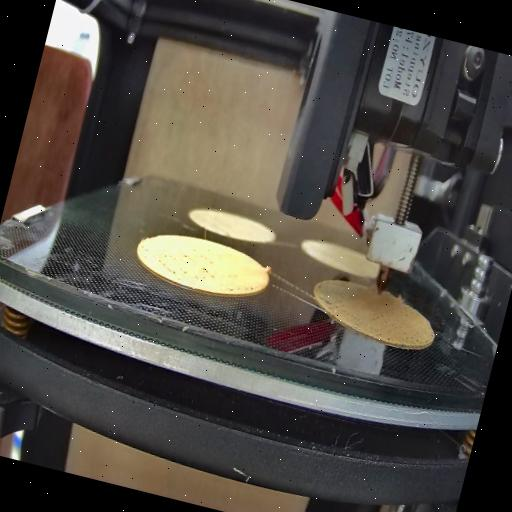under_extrusion: (139, 234, 222, 288), (384, 320, 432, 354), (222, 276, 258, 302), (310, 288, 338, 314)
